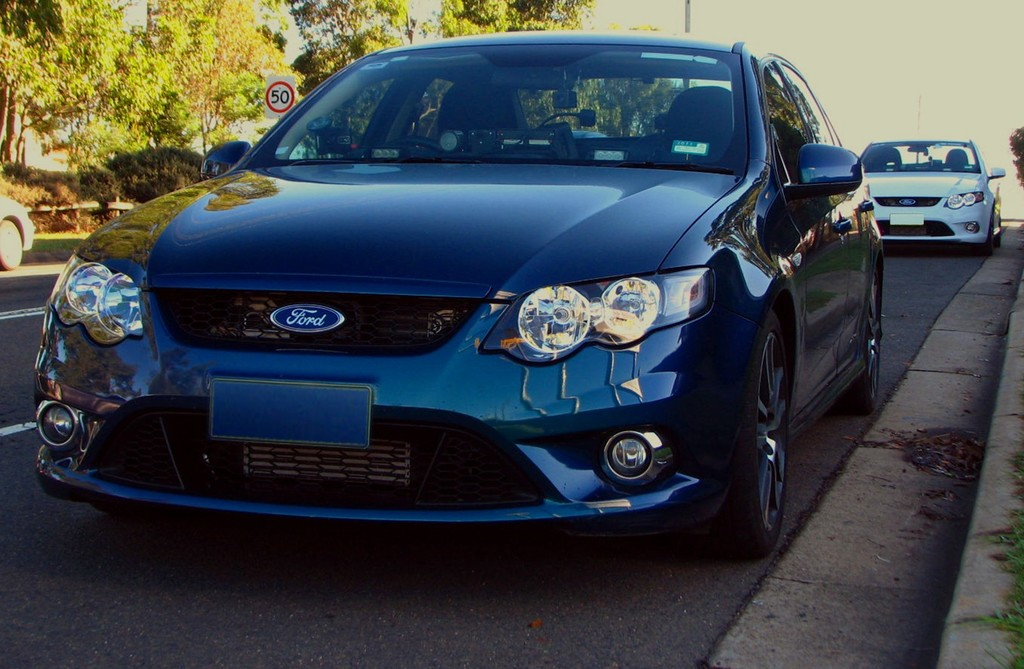Tree: (0, 0, 701, 205)
